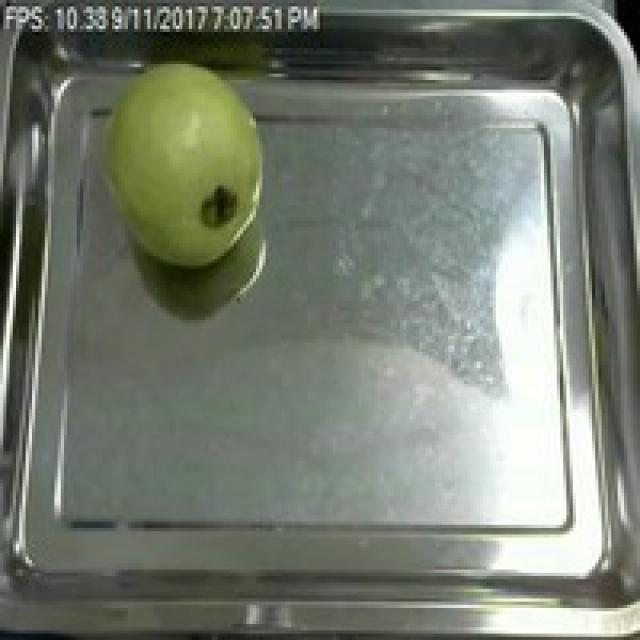Fruit: (70, 52, 278, 278)
